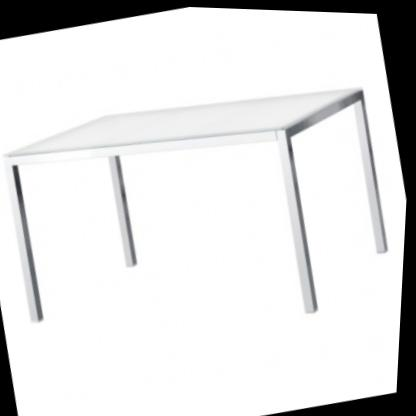Table: (0, 50, 414, 379)
